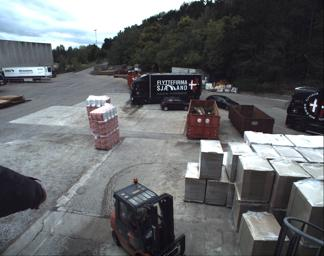rockwool_batts: (89, 104, 120, 150), (86, 91, 110, 115)
